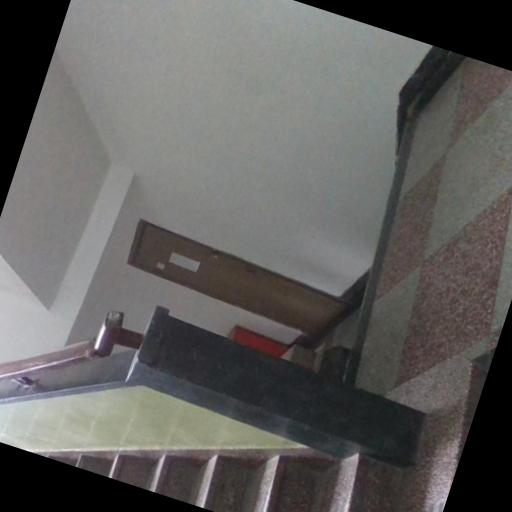stairs: (48, 455, 403, 511)
